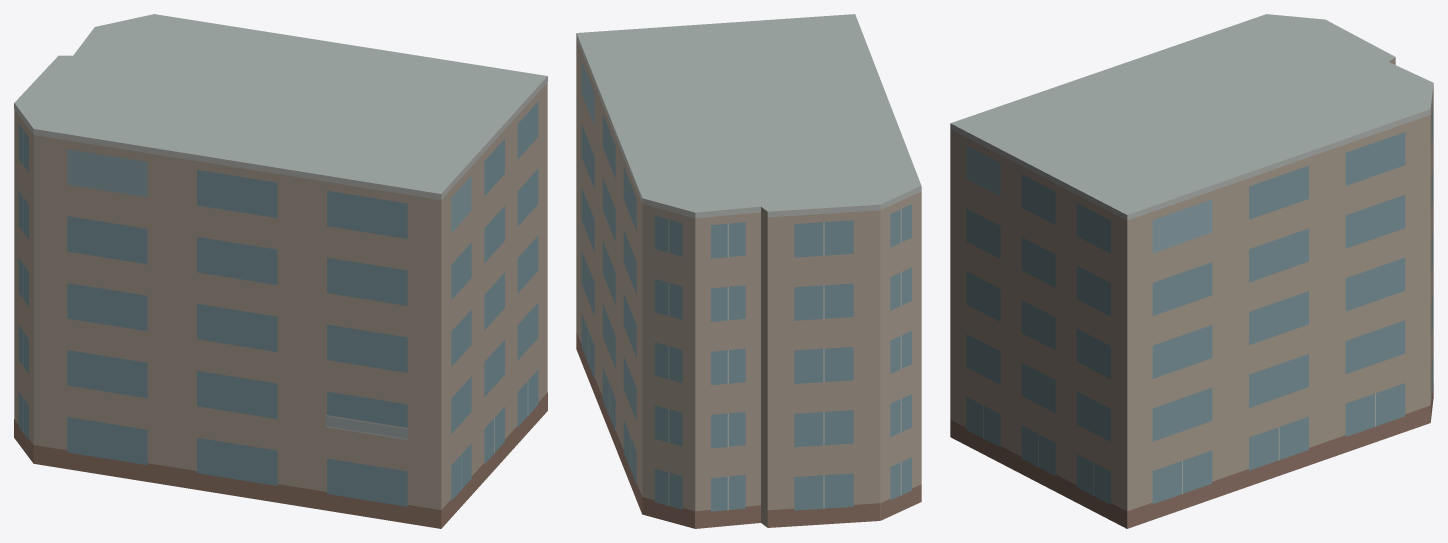
The model's file is survey-upis-32770364.glb.
The picture shows the model from 3 angles, left to right: view 1: azimuth 30°, elevation 25°; view 2: azimuth 150°, elevation 25°; view 3: azimuth 270°, elevation 25°; orthographic projection. The views are drawn at different scales.
Visible parts, largest first — view 1: survey-upis-32770364.tmp; view 2: survey-upis-32770364.tmp; view 3: survey-upis-32770364.tmp.
Boxes of the visible parts, bbox=[...] form: survey-upis-32770364.tmp: bbox=[14, 14, 547, 528]; survey-upis-32770364.tmp: bbox=[576, 14, 921, 528]; survey-upis-32770364.tmp: bbox=[950, 14, 1433, 528].
Bounding box in the file's own units: 18.56 × 13.5 × 18.85.
